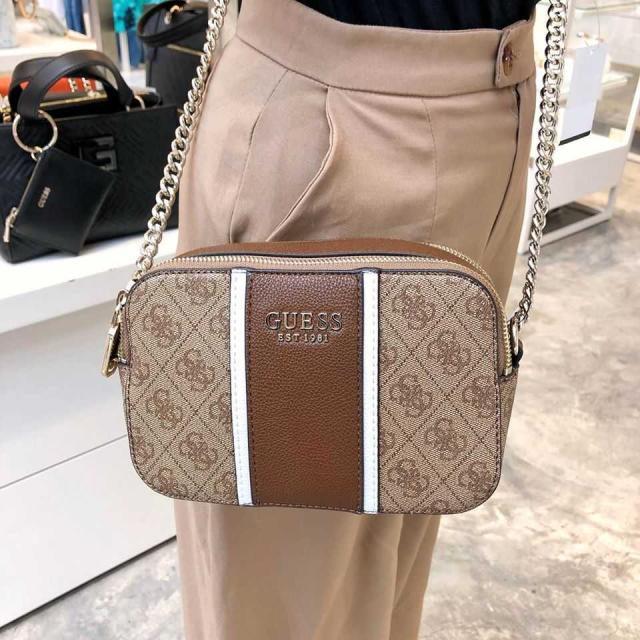Handbag: (98, 232, 541, 528)
